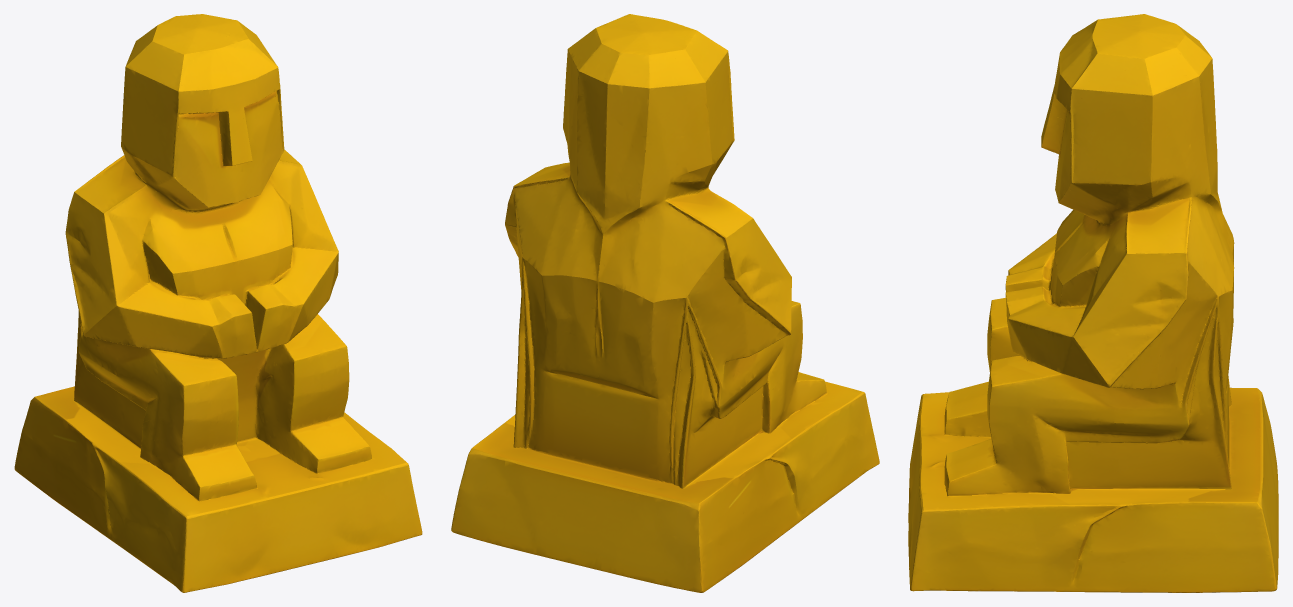
Rendered from base_basic_pbr.fbx.
The picture shows the model from 3 angles, left to right: view 1: azimuth 30°, elevation 25°; view 2: azimuth 150°, elevation 25°; view 3: azimuth 270°, elevation 25°; orthographic projection. The views are drawn at different scales.
Parts seen in each view (by area): view 1: model; view 2: model; view 3: model.
Part boxes in pixels (x1,y1,x2,y2): model: (14,14,422,592); model: (451,14,879,592); model: (908,14,1278,592).
Size of the model in its own units: 110 by 190 by 128.
1 material, 1 textured.
